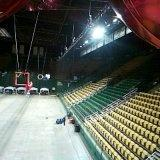Orange_Square_GShape: (14, 71, 31, 87)
